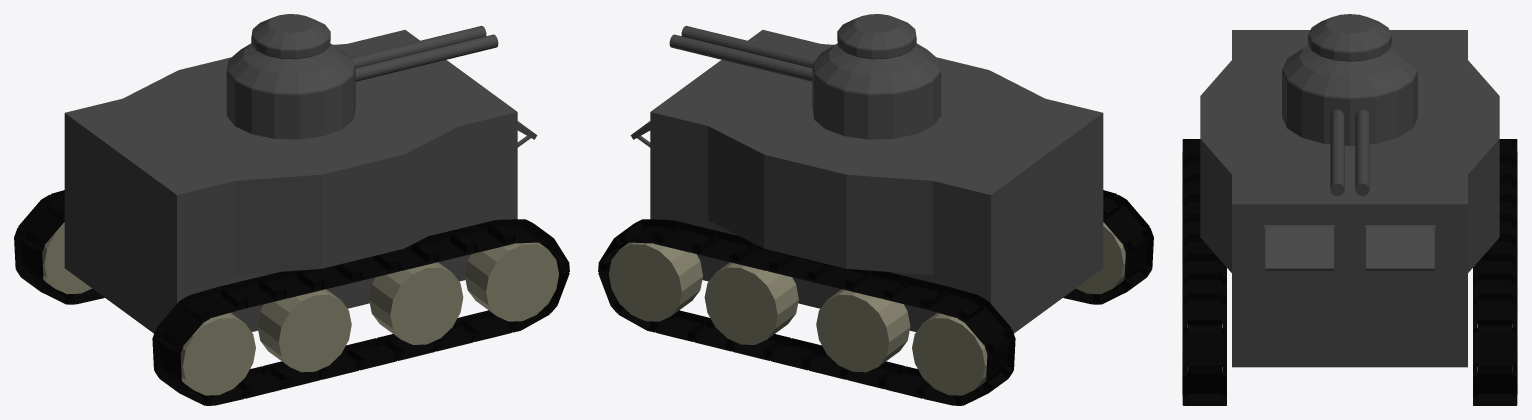
Rendered from tank3.gltf.
The picture shows the model from 3 angles, left to right: view 1: azimuth 30°, elevation 25°; view 2: azimuth 150°, elevation 25°; view 3: azimuth 270°, elevation 25°; orthographic projection. The views are drawn at different scales.
Visible parts, largest first — view 1: bot3, top3; view 2: bot3, top3; view 3: bot3, top3.
Boxes of the visible parts, x1=… form: bot3: x1=14, y1=30, x2=569, y2=405; top3: x1=226, y1=14, x2=498, y2=139; bot3: x1=598, y1=30, x2=1153, y2=405; top3: x1=669, y1=14, x2=941, y2=139; bot3: x1=1182, y1=30, x2=1517, y2=405; top3: x1=1282, y1=14, x2=1417, y2=196.
Bounding box in the file's own units: 2.26 × 1.54 × 1.55.
Materials: 3 (3 with a texture image).
